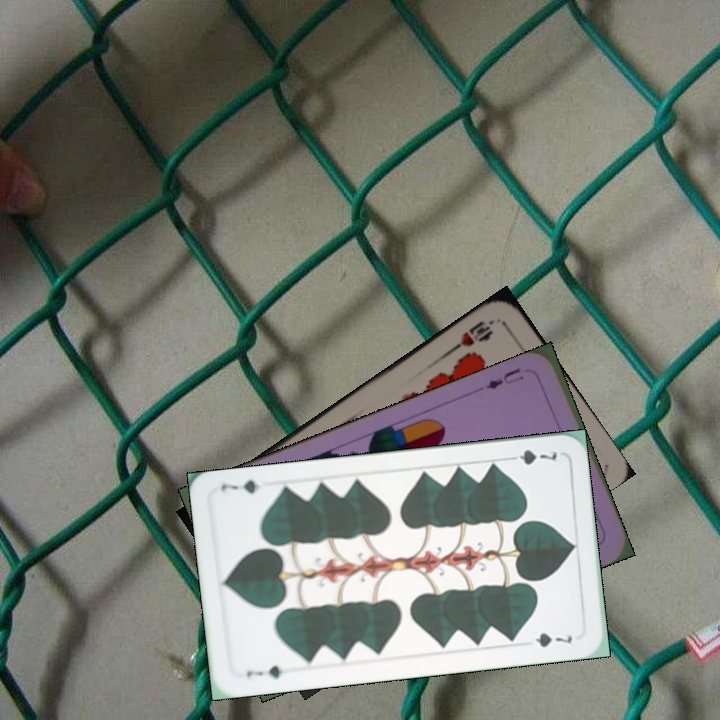EU: (477, 364, 526, 393)
G7: (502, 445, 560, 468), (242, 661, 294, 682)
H10: (447, 315, 498, 354)
